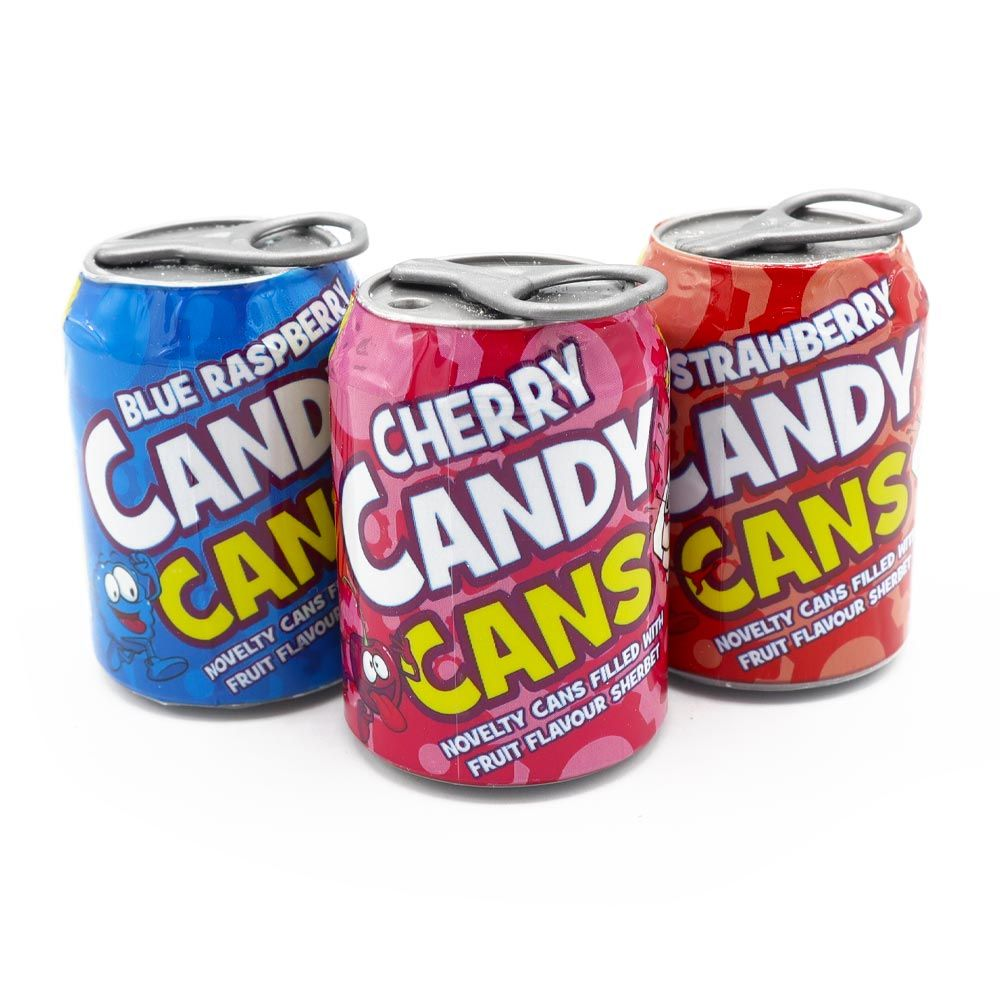cylinder: (327, 250, 669, 791), (63, 220, 359, 709), (642, 206, 929, 691)
